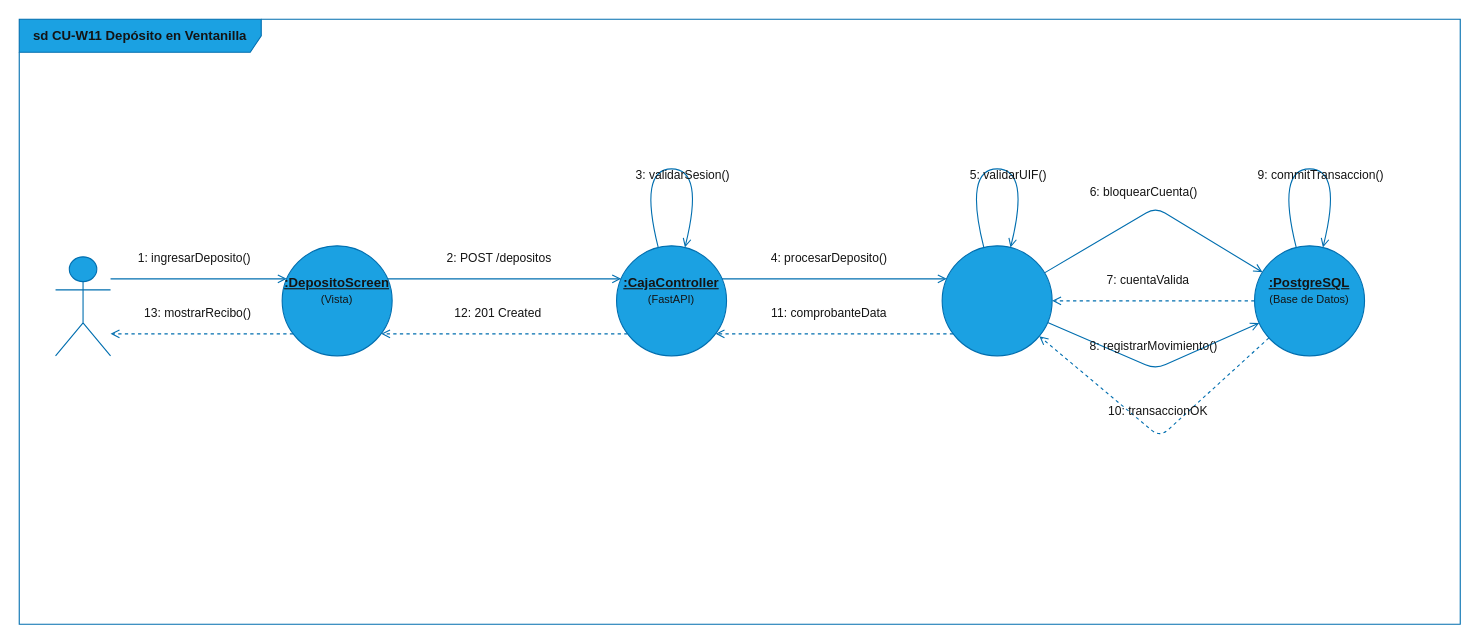
Image size: 1480x644. Some labels were removed from this diagram. Here are the shapes that lost their labels. From the top down, the centre of each, then its label:
At [82,306]: "Cajero".
At [996,300]: ":SecurityService (Lógica / UIF)".
